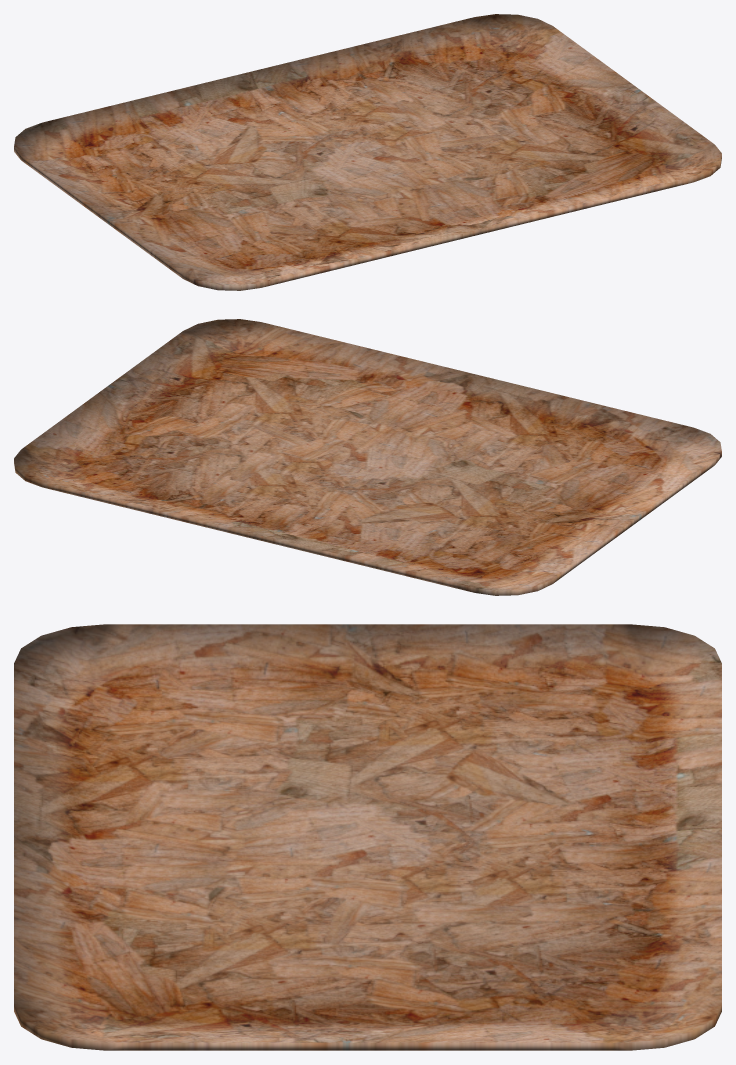
The model's file is tray.fbx.
3 views of the same model, one above another, from view 1: azimuth 30°, elevation 25°; view 2: azimuth 150°, elevation 25°; view 3: azimuth 270°, elevation 25° (orthographic). The views are drawn at different scales.
Visible parts, largest first — view 1: tray; view 2: tray; view 3: tray.
Part boxes in pixels (bbox=[...]): tray: bbox=[14, 14, 721, 290]; tray: bbox=[14, 319, 721, 595]; tray: bbox=[14, 624, 721, 1050].
Bounding box in the file's own units: 35 × 0.871 × 25.
1 material, 1 textured.
